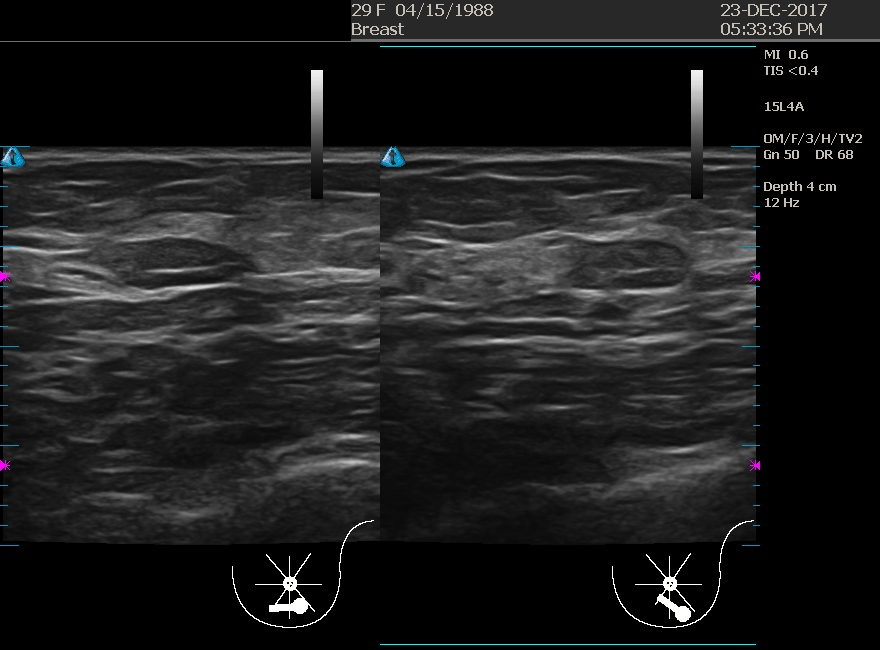BIRADS_4: (515, 220, 715, 420), (68, 148, 268, 348)
